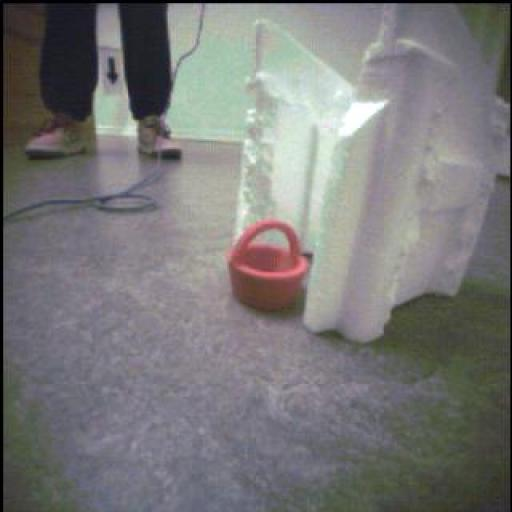Arrow: (109, 57, 120, 86)
Bucket: (226, 214, 311, 313)
